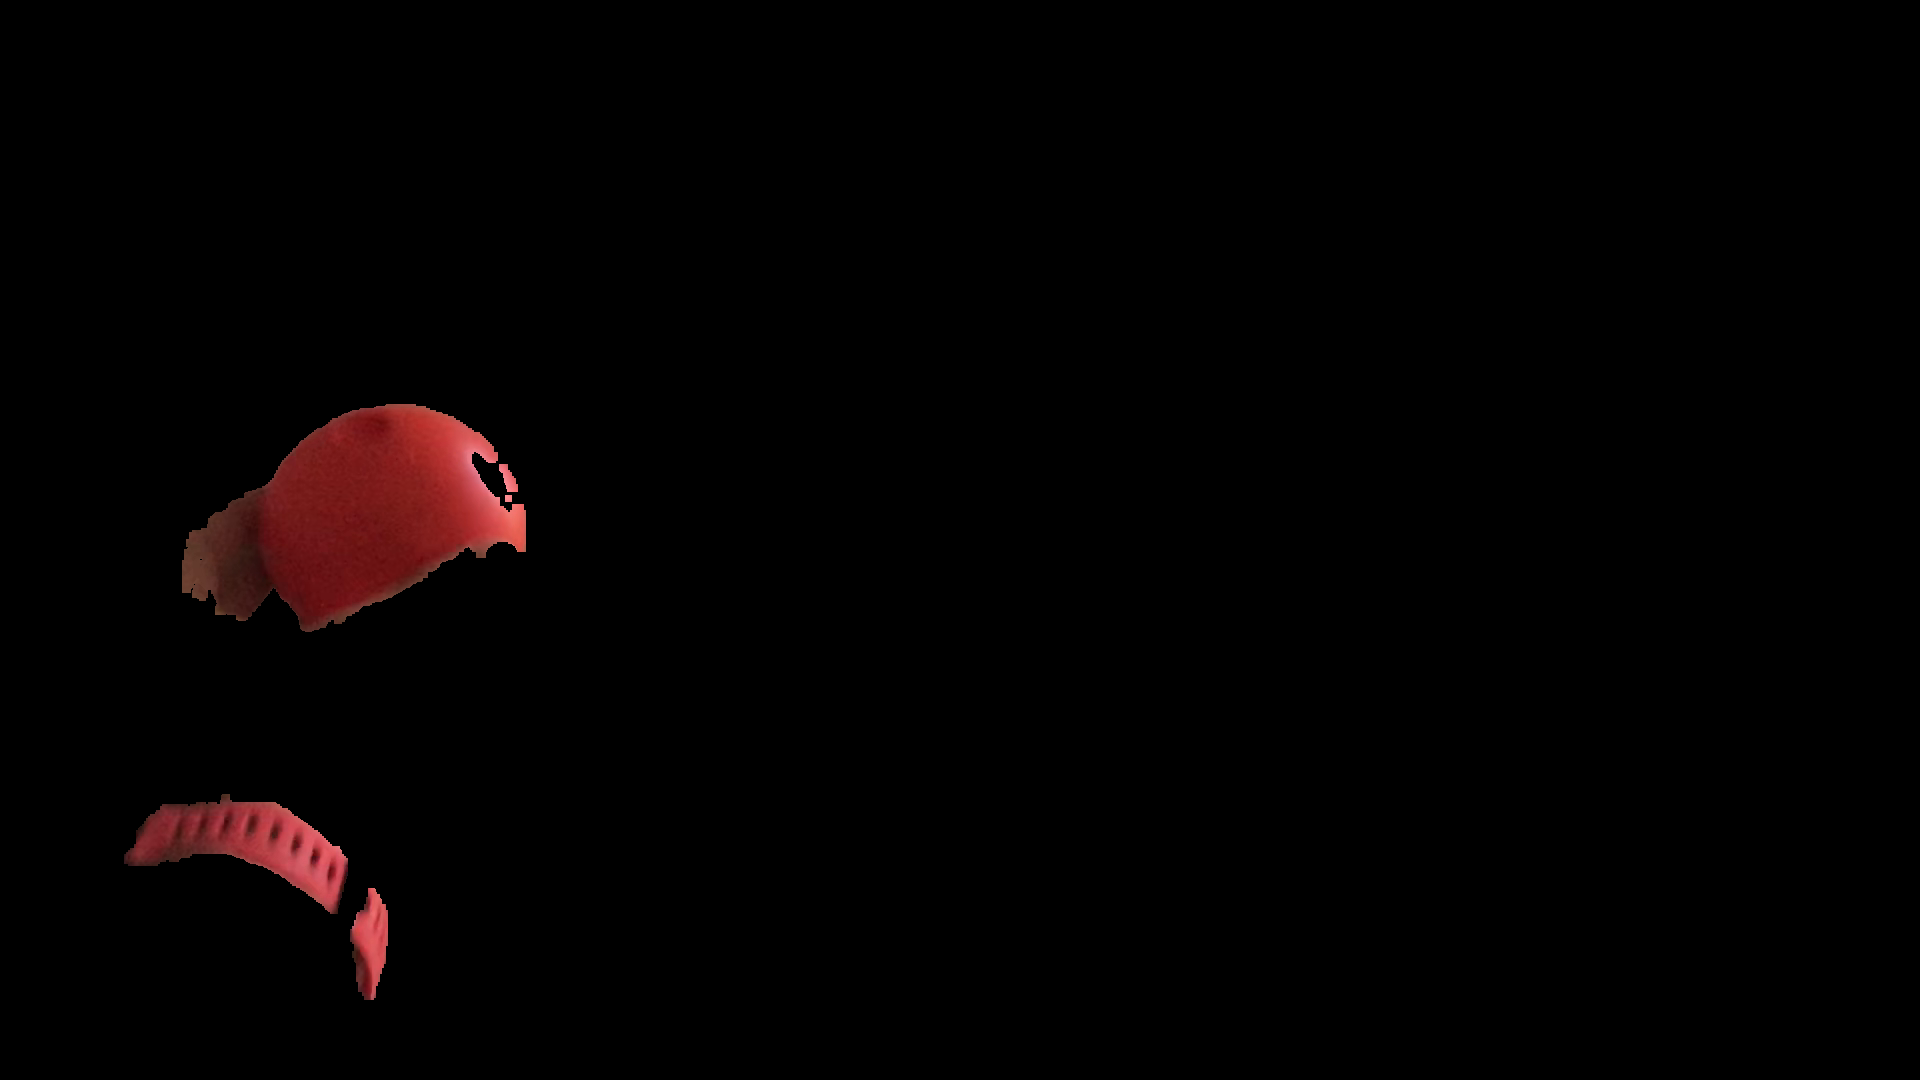Ball: (261, 400, 529, 650)
